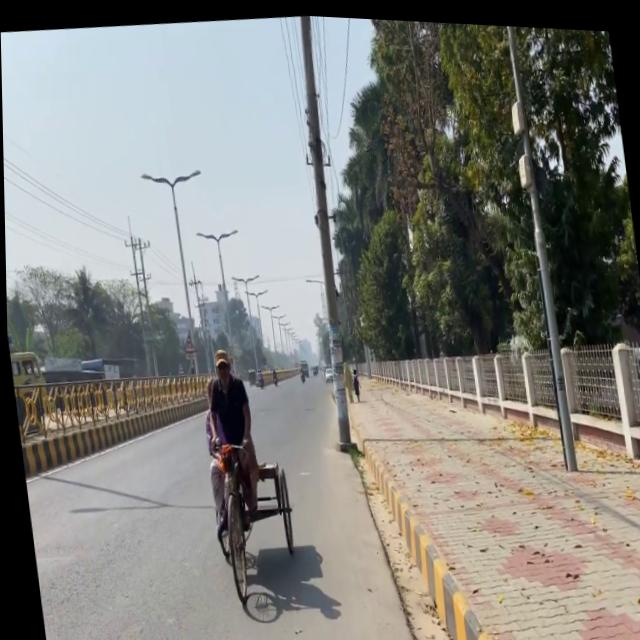Construction-barrier: (344, 434, 418, 640), (406, 512, 493, 640)
Garbage-bin: (190, 344, 264, 537), (349, 364, 360, 398)
Light-pole: (283, 12, 362, 446), (499, 20, 575, 466)
Pole: (10, 354, 186, 482)
Pothole: (338, 333, 640, 640)
Traffic-cone: (204, 436, 304, 613), (8, 347, 51, 440)
